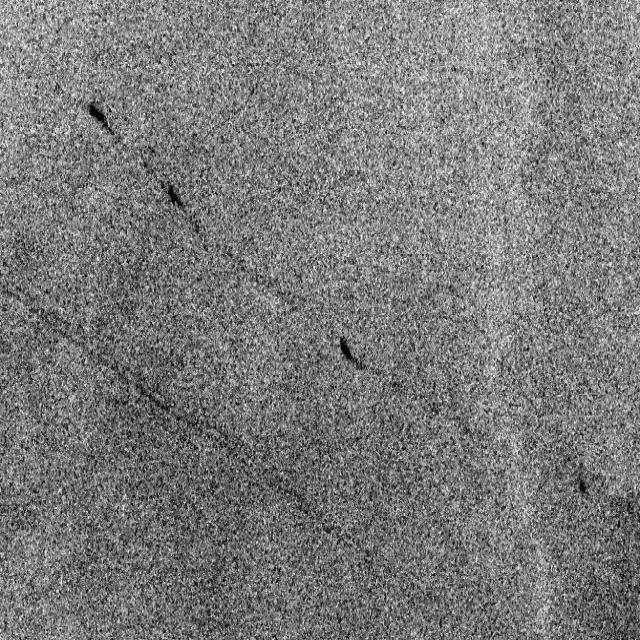oil-spill: (142, 153, 208, 252), (336, 328, 388, 386), (81, 92, 125, 158), (572, 464, 596, 503)
